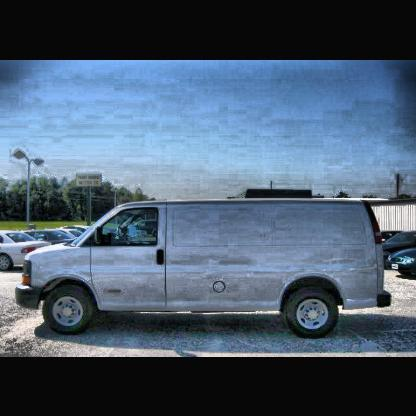Chevrolet Express Cargo Van 2007: (17, 200, 396, 336)
